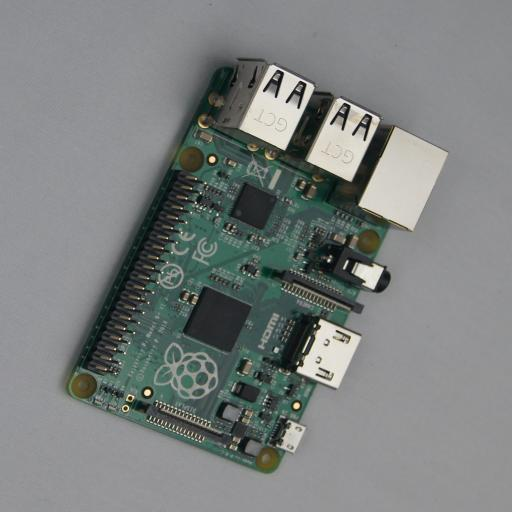Raspberry Pi 1 B-: (62, 51, 448, 474)
